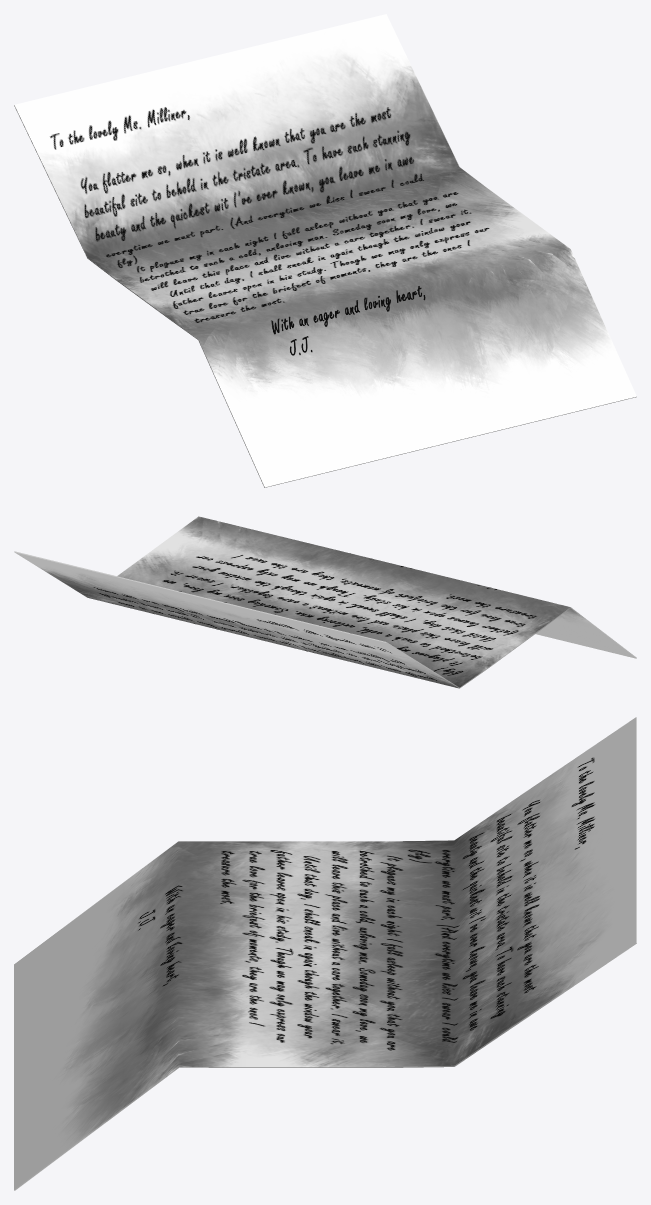
The model's file is letter_2.fbx.
3 renders of one model, top to bottom at view 1: azimuth 30°, elevation 25°; view 2: azimuth 150°, elevation 25°; view 3: azimuth 270°, elevation 25°, orthographic. The views are drawn at different scales.
Parts seen in each view (by area): view 1: letter_2; view 2: letter_2; view 3: letter_2.
Part boxes in pixels (<box>): letter_2: <box>14,14,636,487</box>; letter_2: <box>14,516,636,688</box>; letter_2: <box>14,717,636,1190</box>.
Bounding box in the file's own units: 36.64 × 18.81 × 42.77.
1 material, 1 textured.
